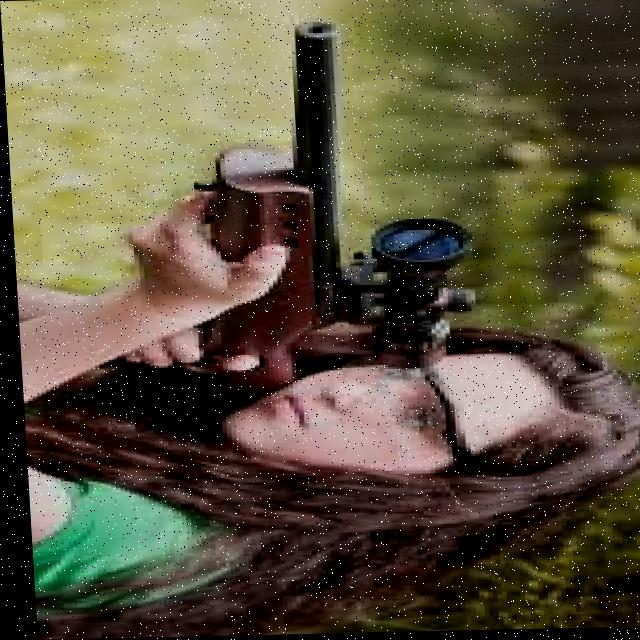firearm: (147, 20, 479, 401)
